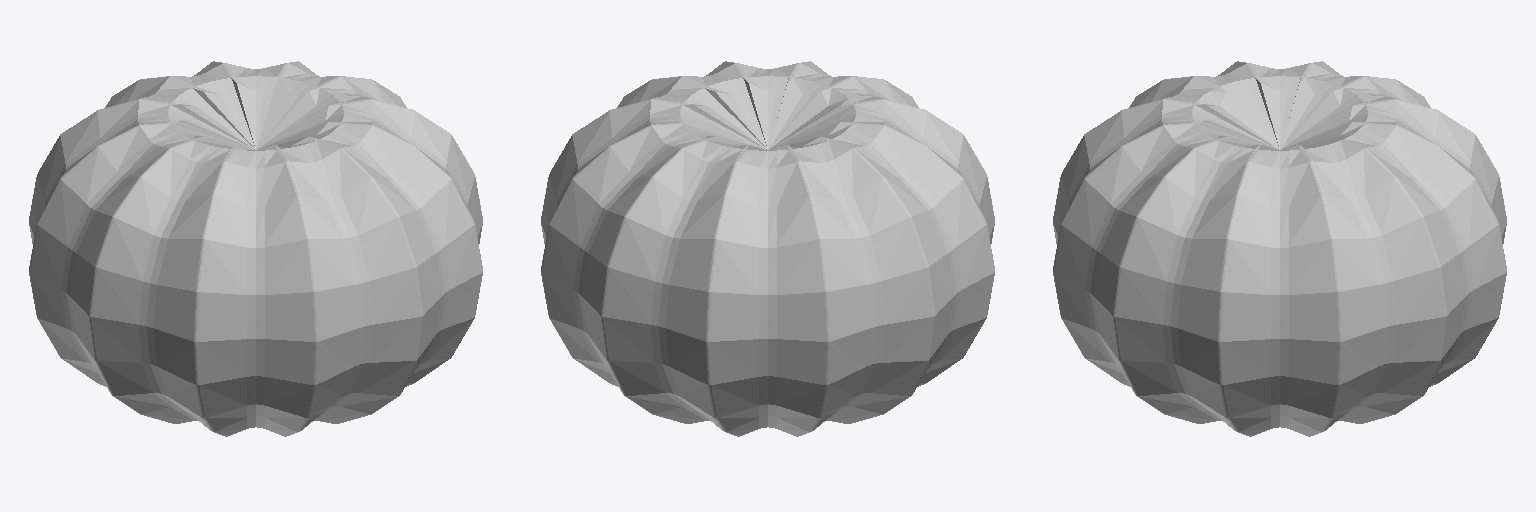
Rendered from pumking.obj.
3 renders of one model, left to right at view 1: azimuth 30°, elevation 25°; view 2: azimuth 150°, elevation 25°; view 3: azimuth 270°, elevation 25°, orthographic.
Visible parts, largest first — view 1: pumking; view 2: pumking; view 3: pumking.
Boxes of the visible parts, <box> form: pumking: <box>29,61,482,436</box>; pumking: <box>541,61,994,436</box>; pumking: <box>1053,61,1506,436</box>.
Bounding box in the file's own units: 4.29 × 3 × 4.29.